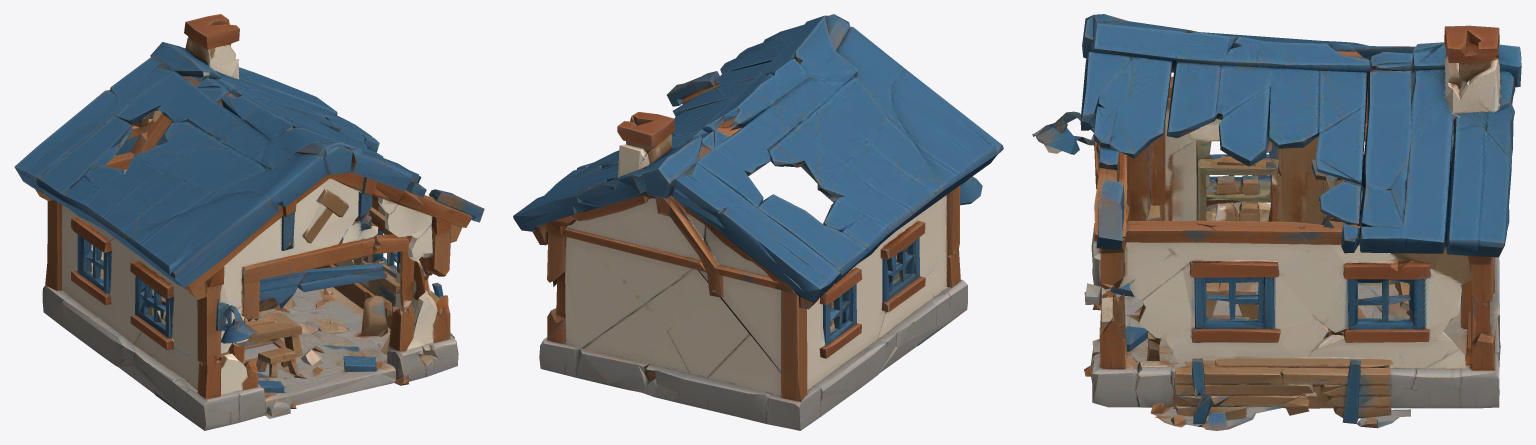
File: workshopRuin.glb
3 renders of one model, left to right at view 1: azimuth 30°, elevation 25°; view 2: azimuth 150°, elevation 25°; view 3: azimuth 270°, elevation 25°, orthographic. The views are drawn at different scales.
Visible parts, largest first — view 1: Mesh_0; view 2: Mesh_0; view 3: Mesh_0.
Part boxes in pixels (box(x1,y1,x2,y2)): Mesh_0: box(14, 14, 484, 430); Mesh_0: box(513, 14, 1003, 430); Mesh_0: box(1032, 14, 1521, 430).
Bounding box in the file's own units: 2.83 × 2.16 × 3.
Materials: 1 (1 with a texture image).
